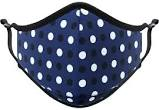cloth_mask: (1, 1, 159, 110)
